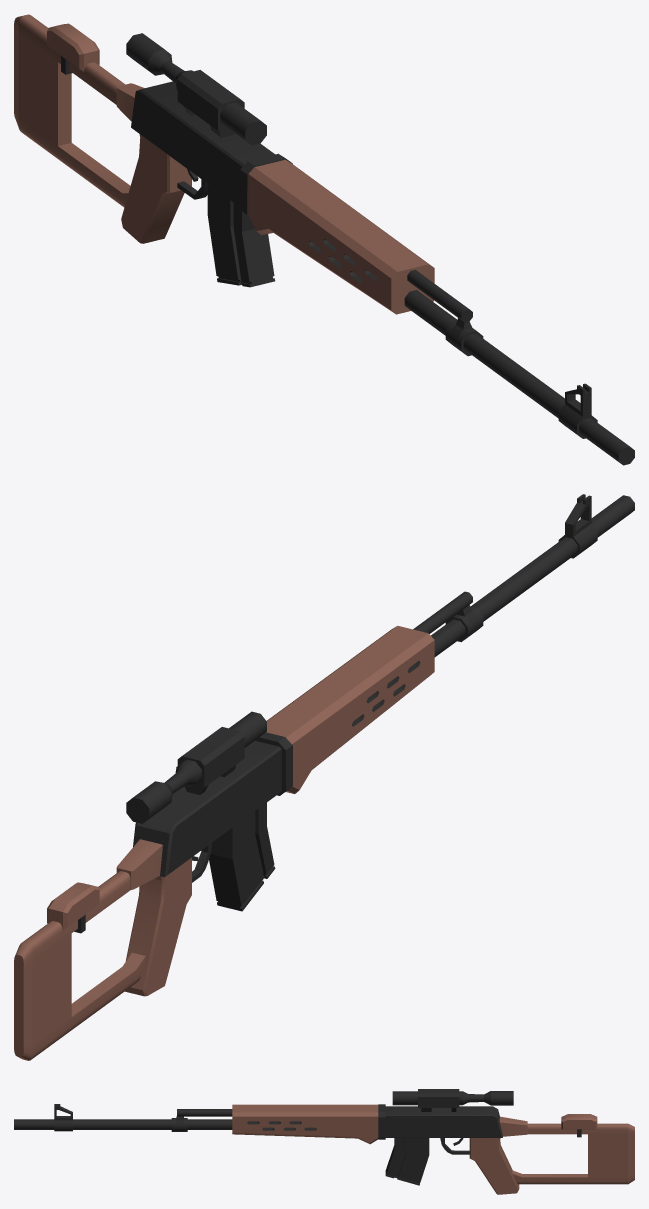
File: dragunov.glb
3 views of the same model, one above another, from view 1: azimuth 30°, elevation 25°; view 2: azimuth 150°, elevation 25°; view 3: azimuth 270°, elevation 25° (orthographic). The views are drawn at different scales.
Parts seen in each view (by area): view 1: Dragunov_SVD_Body_36, Dragunov_SVD_Magazine_34; view 2: Dragunov_SVD_Body_36, Dragunov_SVD_Magazine_34; view 3: Dragunov_SVD_Body_36, Dragunov_SVD_Magazine_34.
Part boxes in pixels (x1,y1,x2,y2): Dragunov_SVD_Body_36: [14, 14, 634, 465]; Dragunov_SVD_Magazine_34: [207, 184, 275, 287]; Dragunov_SVD_Body_36: [14, 494, 634, 1060]; Dragunov_SVD_Magazine_34: [209, 802, 275, 911]; Dragunov_SVD_Body_36: [14, 1089, 634, 1194]; Dragunov_SVD_Magazine_34: [385, 1138, 429, 1185].
Size of the model in its own units: 0.1346 by 0.5508 by 3.09.
